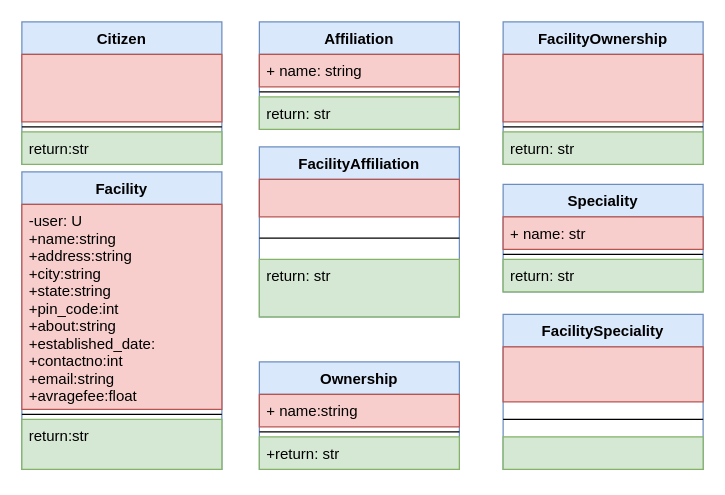
This 725x495 diagram has some shape labels left out. The shapes that lost their labels are listed below. From the top down, each one's centre as x and y in pixels, then its label:
At point 121,87: "user: U +name:string -pho.no:str".
At point 602,87: "+ facility: str +ownership:str +name:str".
At point 358,197: "+ facility: string +affiliation:string".
At point 602,374: "+ facility:str +speciality:str".
At point 602,452: "+ return: str".
